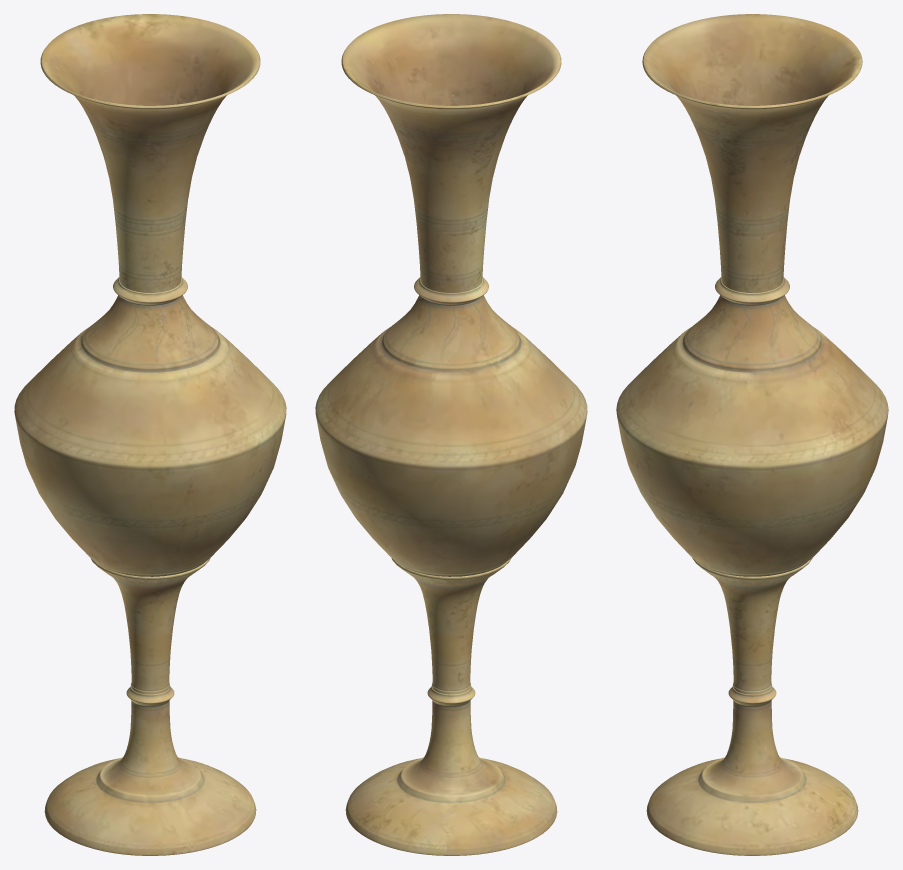
The model's file is brass_vase_01.glb.
The picture shows the model from 3 angles, left to right: view 1: azimuth 30°, elevation 25°; view 2: azimuth 150°, elevation 25°; view 3: azimuth 270°, elevation 25°; orthographic projection.
Parts seen in each view (by area): view 1: brass_vase_01; view 2: brass_vase_01; view 3: brass_vase_01.
Boxes of the visible parts, x1,y1,x2,y2 form: brass_vase_01: (14,14,286,855); brass_vase_01: (315,14,587,855); brass_vase_01: (616,14,888,855).
Bounding box in the file's own units: 0.2273 × 0.6925 × 0.2273.
1 material, 1 textured.
